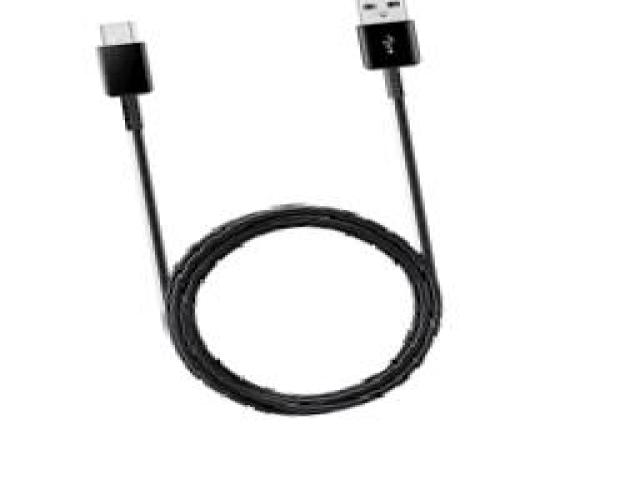wire: (103, 0, 440, 414)
